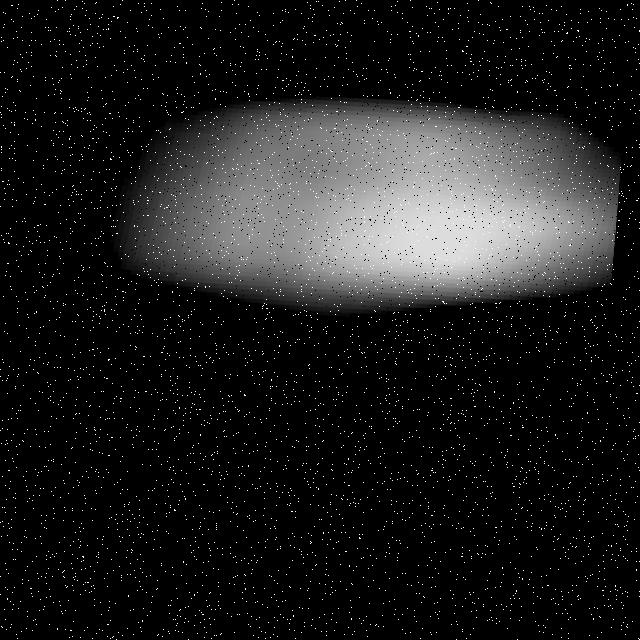person: (86, 24, 636, 431)
